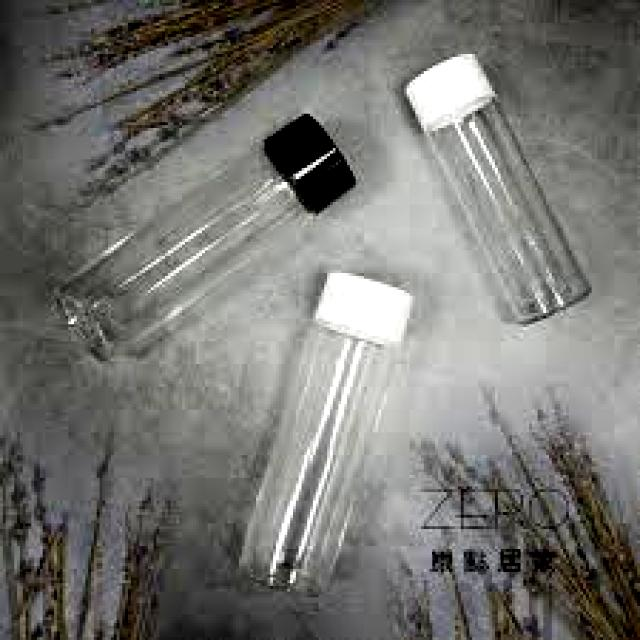Glass: (43, 102, 371, 376), (221, 265, 421, 604), (396, 44, 604, 342)
